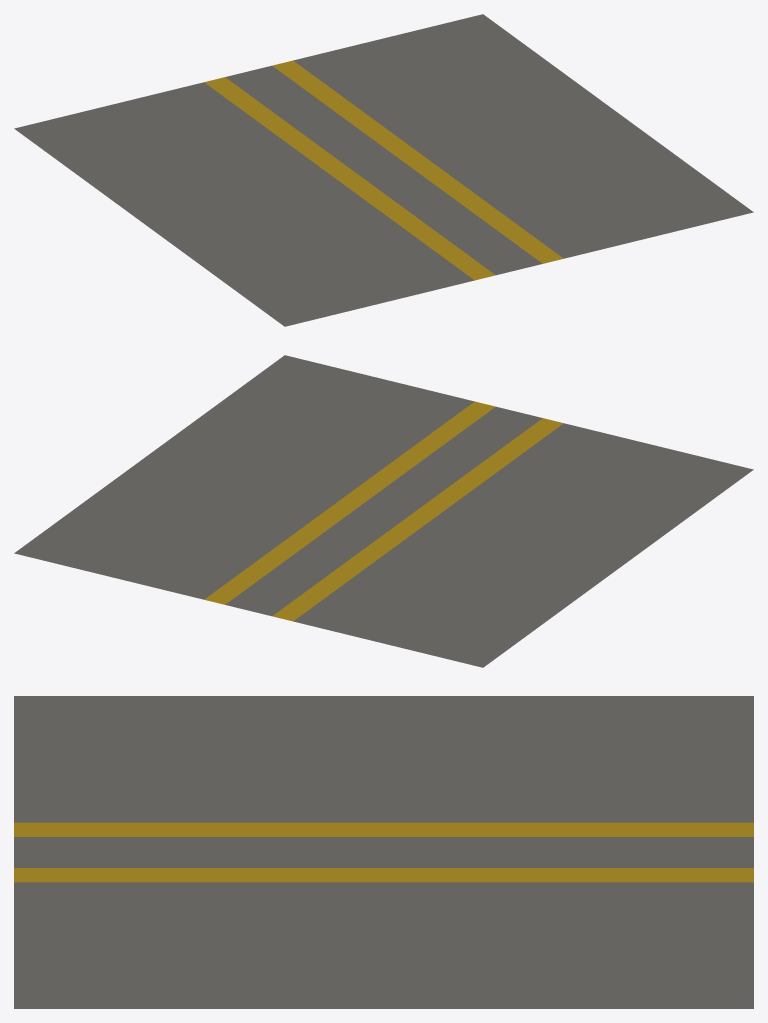
The model's file is AI_Env_Floor_Factory_Lined_01.fbx.
3 renders of one model, top to bottom at view 1: azimuth 30°, elevation 25°; view 2: azimuth 150°, elevation 25°; view 3: azimuth 270°, elevation 25°, orthographic. The views are drawn at different scales.
Parts seen in each view (by area): view 1: AI_Env_Floor_Factory_Lined_01; view 2: AI_Env_Floor_Factory_Lined_01; view 3: AI_Env_Floor_Factory_Lined_01.
Part boxes in pixels (left/top/right/bottom): AI_Env_Floor_Factory_Lined_01: left=14, top=14, right=753, bottom=326; AI_Env_Floor_Factory_Lined_01: left=14, top=355, right=753, bottom=667; AI_Env_Floor_Factory_Lined_01: left=14, top=696, right=753, bottom=1008.
Bounding box in the file's own units: 5 × 0 × 5.
